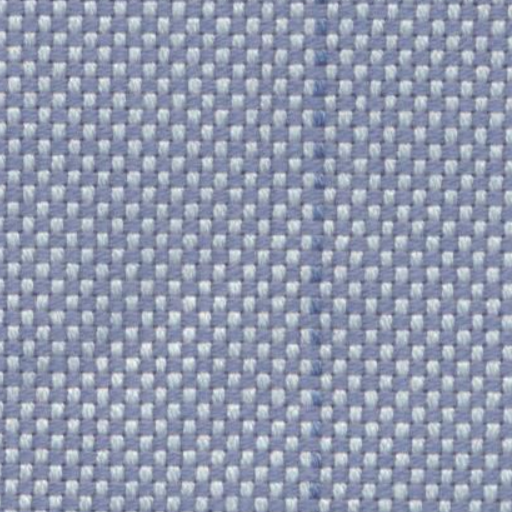TuoSha: (288, 8, 356, 494)
